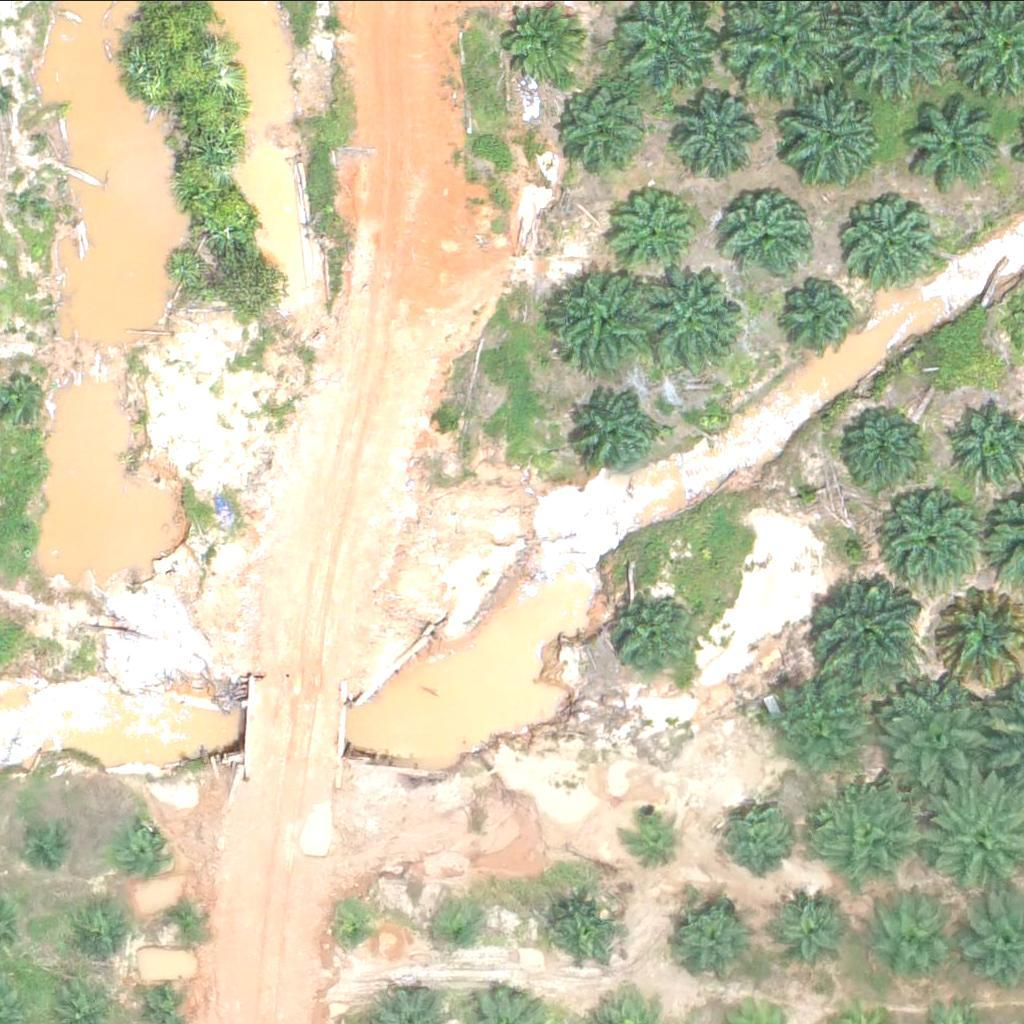Kelapa_Sawit: (800, 570, 926, 695), (880, 681, 1005, 806), (763, 669, 877, 781), (879, 480, 993, 592), (815, 779, 928, 891), (899, 93, 1000, 193), (642, 266, 743, 366), (549, 270, 650, 370), (871, 892, 971, 992), (780, 88, 880, 188), (676, 890, 764, 978), (559, 79, 647, 167), (614, 186, 702, 274), (727, 189, 815, 277), (850, 197, 938, 285), (574, 387, 662, 475), (773, 887, 861, 974), (615, 589, 703, 676), (774, 270, 862, 357), (678, 86, 766, 173), (839, 401, 927, 488), (551, 895, 627, 970), (714, 793, 790, 868), (66, 894, 129, 957), (623, 801, 686, 863), (157, 894, 208, 944), (123, 823, 173, 873), (18, 813, 68, 863), (331, 901, 381, 951), (438, 905, 488, 955), (1, 371, 51, 421), (16, 179, 41, 204)
